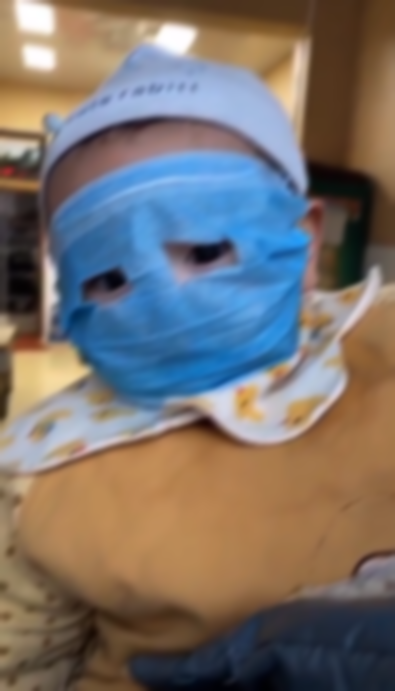mask_weared_incorrect: (40, 47, 328, 402)
